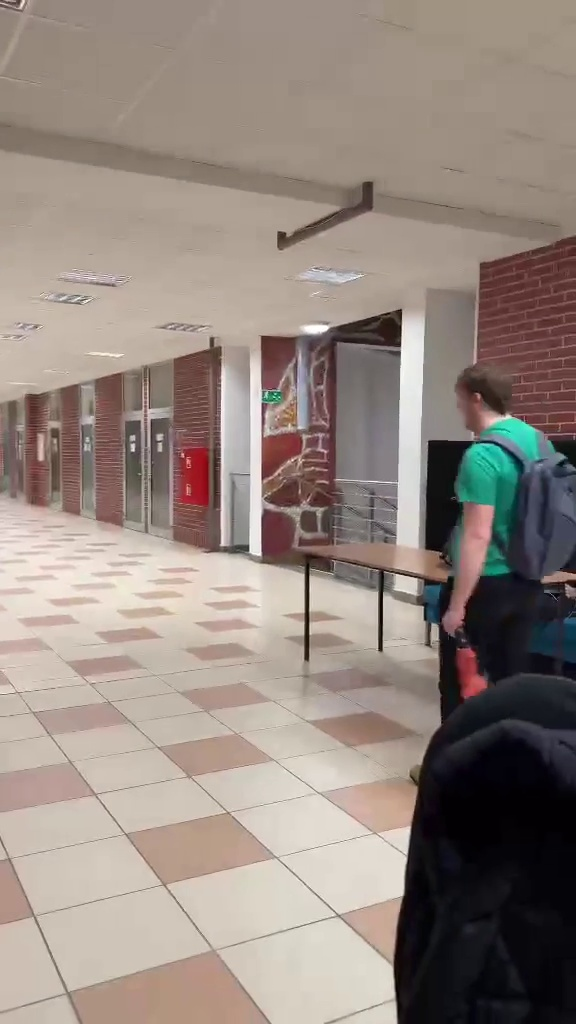no vest: (419, 360, 573, 718)
